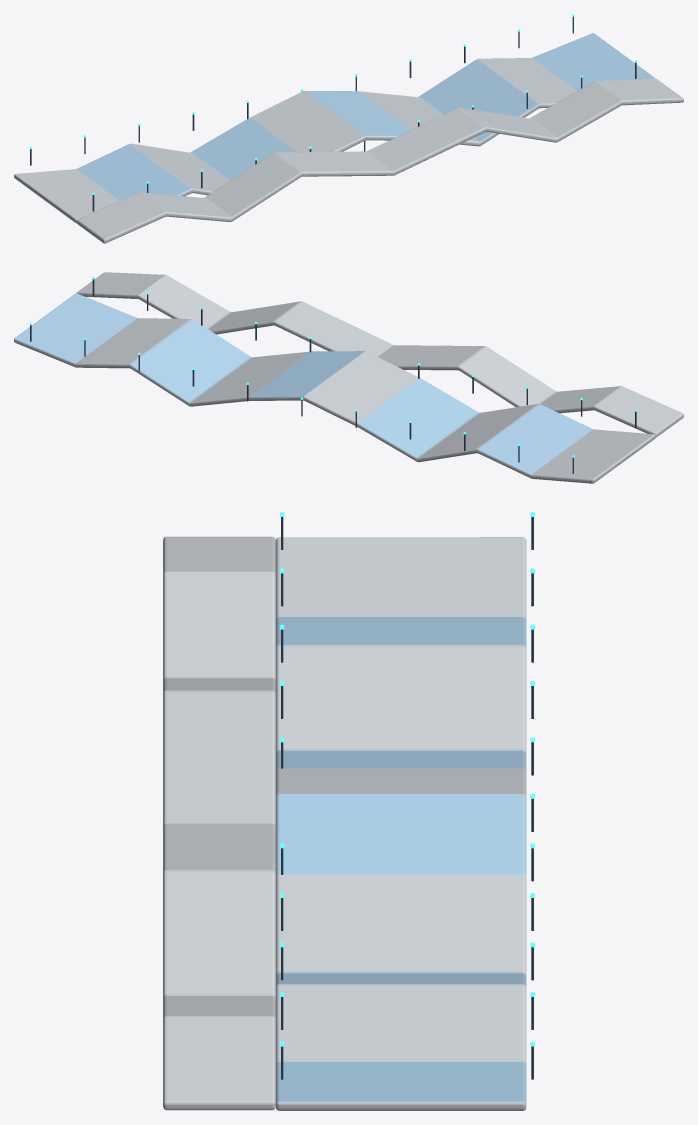
Rendered from Titan_NorthFlank.fbx.
3 renders of one model, top to bottom at view 1: azimuth 30°, elevation 25°; view 2: azimuth 150°, elevation 25°; view 3: azimuth 270°, elevation 25°, orthographic. The views are drawn at different scales.
Parts seen in each view (by area): view 1: SideRoute_N, RimRoute_N; view 2: SideRoute_N, RimRoute_N; view 3: SideRoute_N, RimRoute_N.
Boxes of the visible parts, x1,y1,x2,y2 form: SideRoute_N: (14,33,654,223); RimRoute_N: (76,78,683,243); SideRoute_N: (14,293,655,483); RimRoute_N: (77,272,683,437); SideRoute_N: (276,537,526,1110); RimRoute_N: (163,536,275,1110).
Bounding box in the file's own units: 5350 × 413 × 1484.
